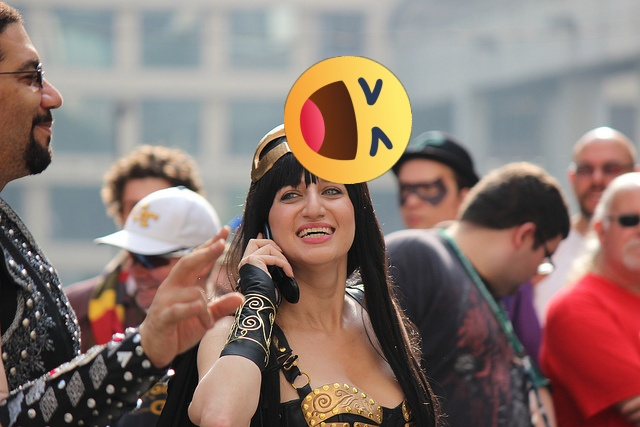haha: (284, 56, 412, 184)
